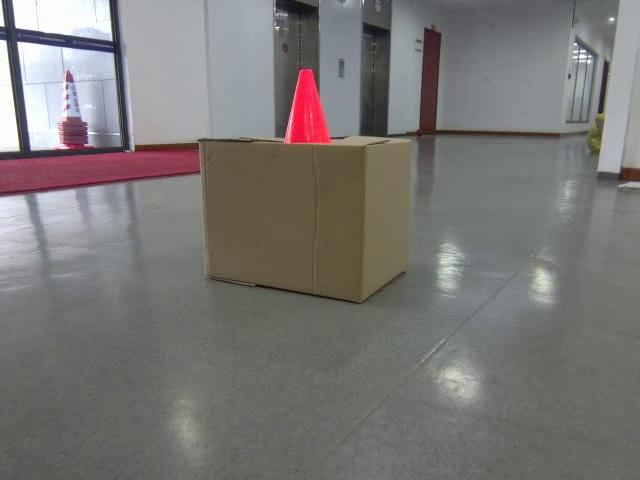orange_barrel: (280, 68, 335, 144)
